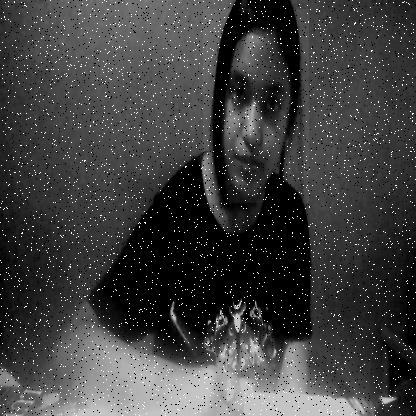Normal: (203, 9, 309, 203)
